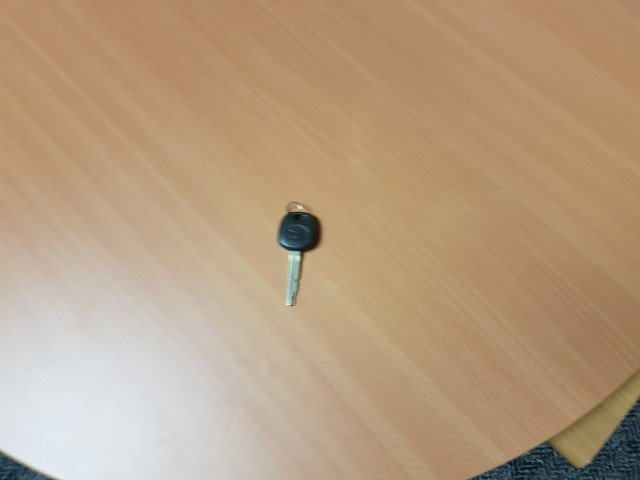key: (278, 211, 318, 308)
